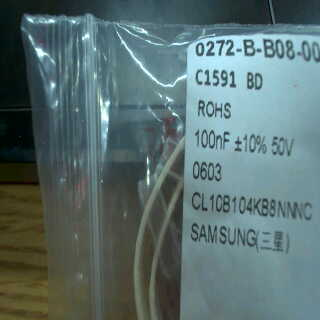100nF: (194, 127, 232, 154)
